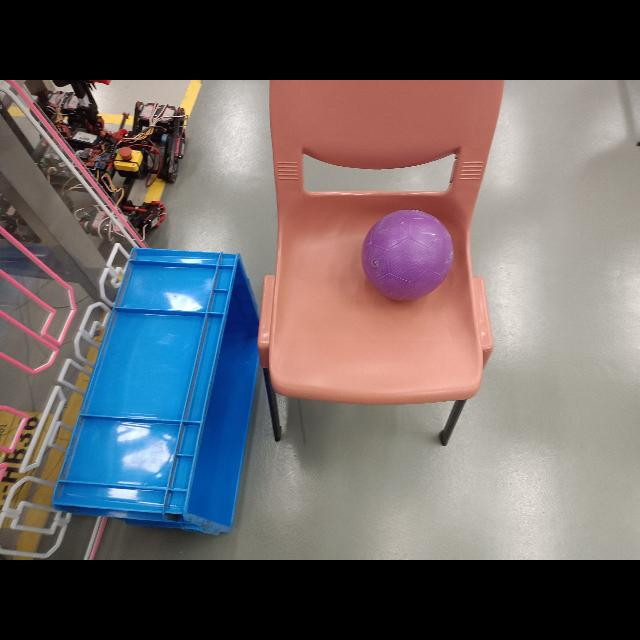P: (361, 210, 453, 302)
